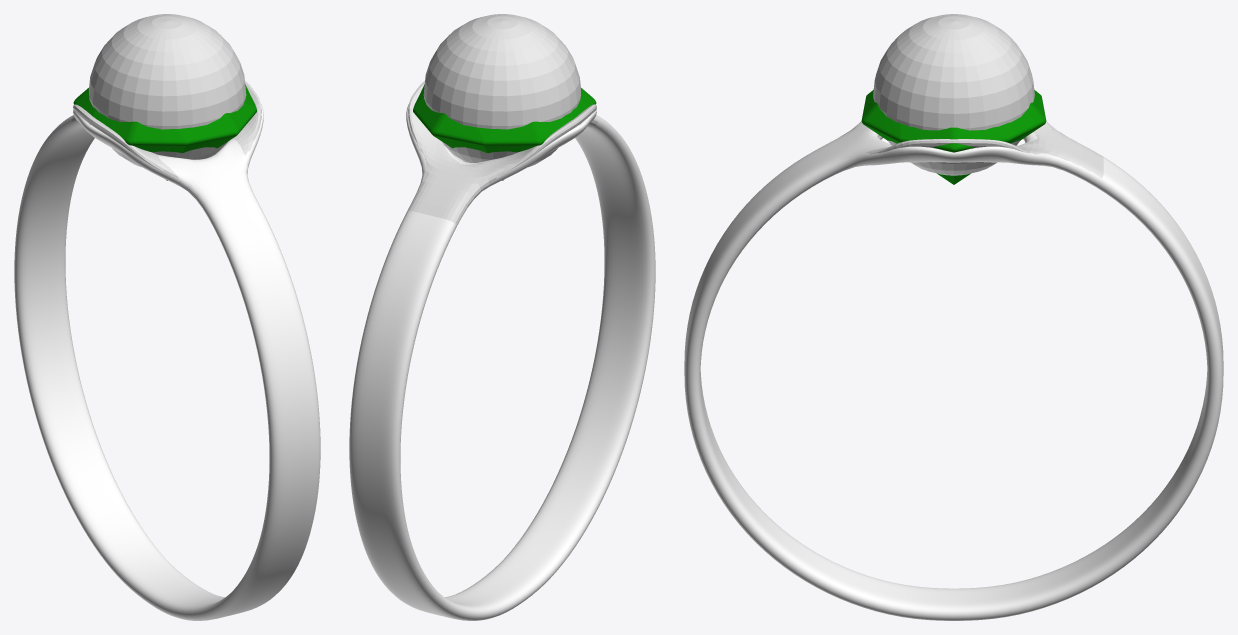
File: Ring.fbx
3 renders of one model, left to right at view 1: azimuth 30°, elevation 25°; view 2: azimuth 150°, elevation 25°; view 3: azimuth 270°, elevation 25°, orthographic. The views are drawn at different scales.
Parts seen in each view (by area): view 1: Cylinder, Sphere, Icosphere, Cylinder.001; view 2: Cylinder, Sphere, Cylinder.001, Icosphere; view 3: Cylinder, Sphere, Icosphere, Cylinder.001.
Part boxes in pixels (bbox=[...]): Cylinder: bbox=[14, 104, 320, 620]; Sphere: bbox=[89, 14, 246, 167]; Icosphere: bbox=[73, 84, 256, 180]; Cylinder.001: bbox=[71, 81, 261, 226]; Cylinder: bbox=[349, 104, 655, 620]; Sphere: bbox=[423, 14, 580, 167]; Cylinder.001: bbox=[408, 81, 597, 224]; Icosphere: bbox=[413, 84, 596, 180]; Cylinder: bbox=[684, 121, 1223, 620]; Sphere: bbox=[873, 14, 1034, 175]; Icosphere: bbox=[861, 90, 1046, 184]; Cylinder.001: bbox=[812, 121, 1103, 186].
Size of the model in its own units: 62.75 by 212 by 176.
